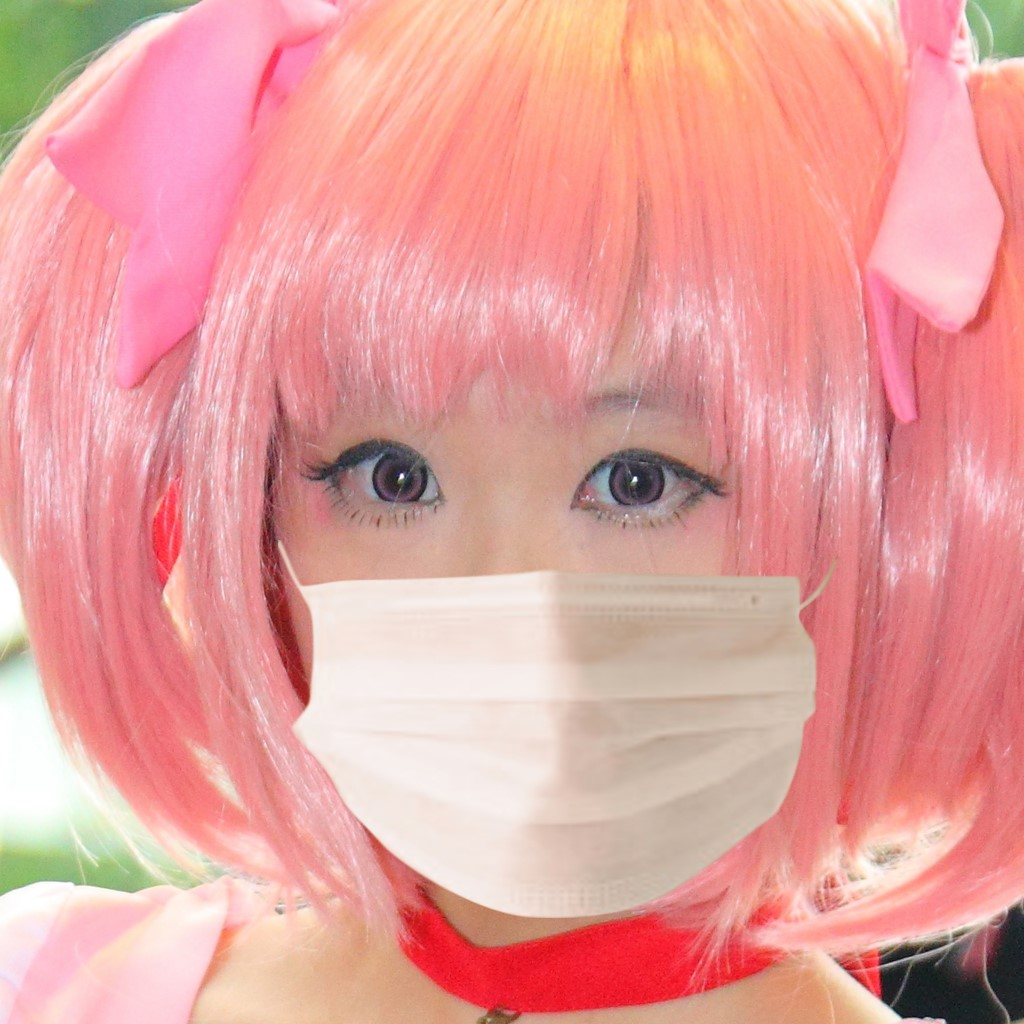con_mascara: (253, 244, 897, 941)
